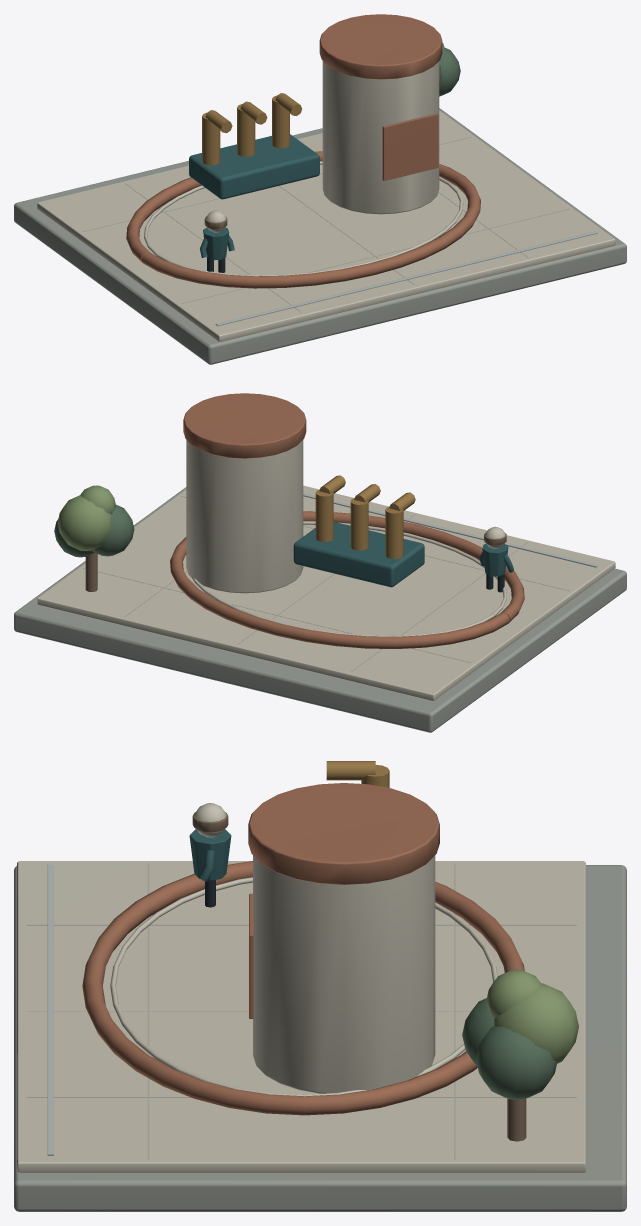
File: idea-4764dff0.glb
3 renders of one model, top to bottom at view 1: azimuth 30°, elevation 25°; view 2: azimuth 150°, elevation 25°; view 3: azimuth 270°, elevation 25°, orthographic. The views are drawn at different scales.
Visible parts, largest first — view 1: Karmic Creatine; view 2: Karmic Creatine; view 3: Karmic Creatine.
Boxes of the visible parts, x1,y1,x2,y2 form: Karmic Creatine: (14,14,626,364); Karmic Creatine: (14,393,626,732); Karmic Creatine: (14,761,626,1211).
Bounding box in the file's own units: 4.8 × 1.99 × 3.9.
